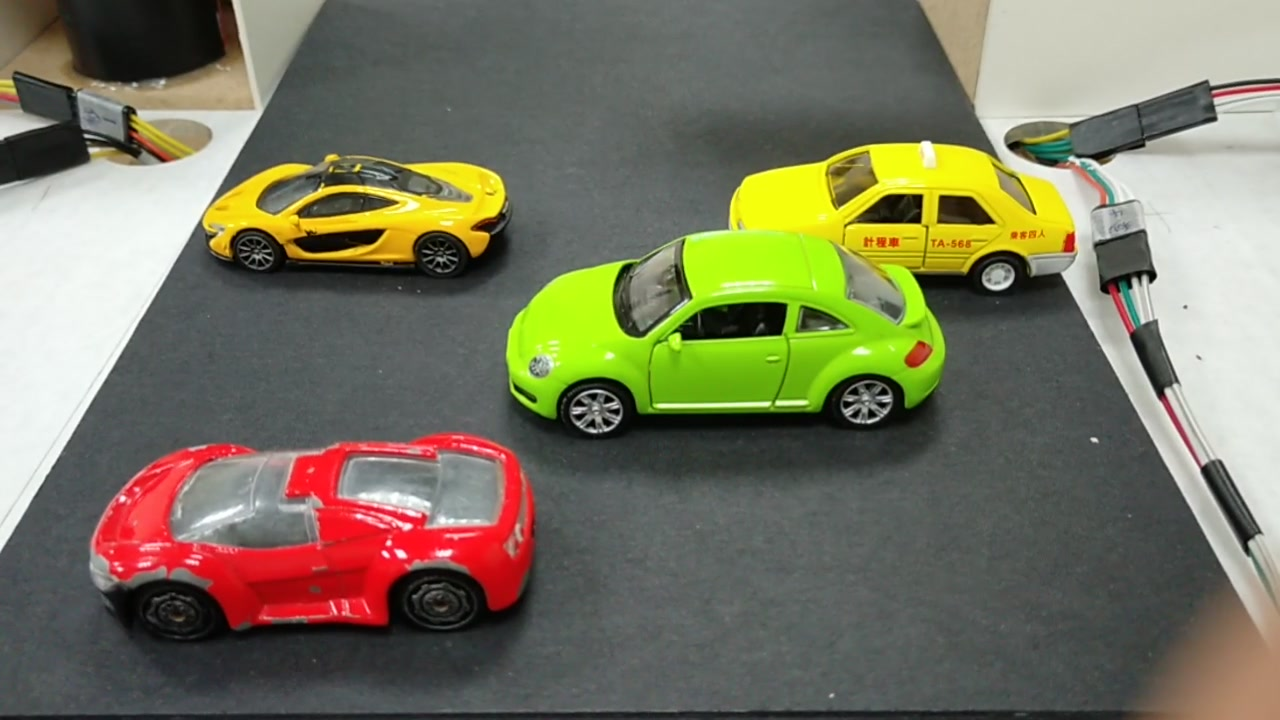car: (76, 455, 535, 630), (516, 256, 939, 429), (734, 155, 1078, 285), (206, 154, 511, 276)
